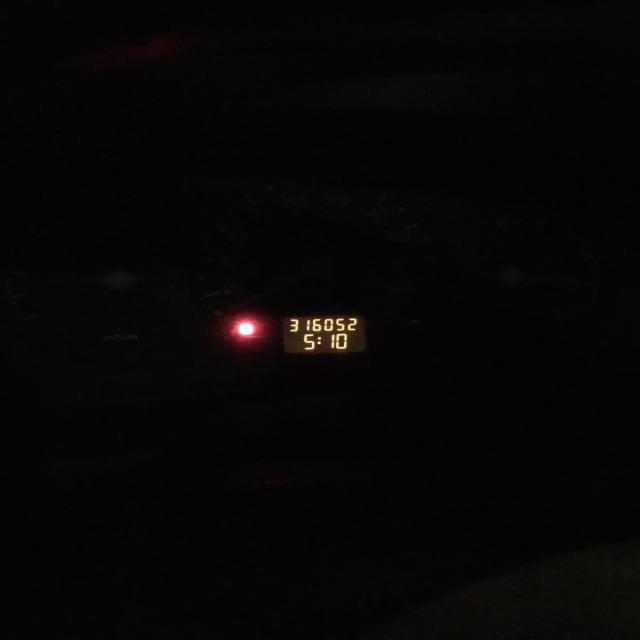odometer: (282, 314, 367, 354)
